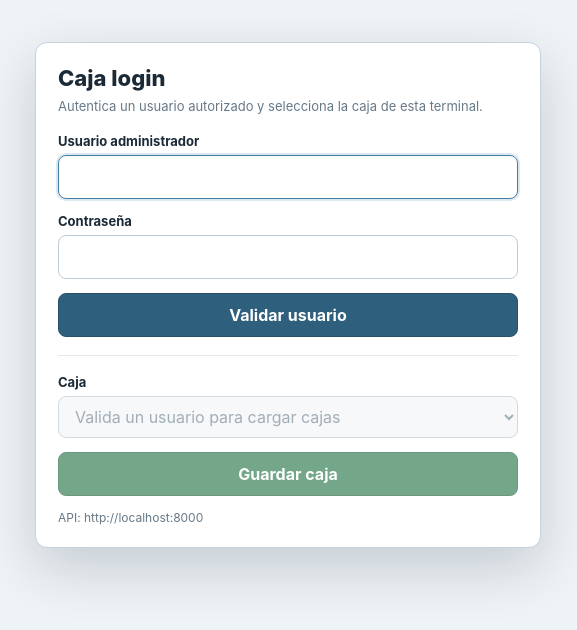
Scenario: rejects users without admin privileges
This screenshot has width=577, height=630.
Type "cashier" into the field labelled "Usuario administrador".
click(288, 177); type("cashier")  # box 58,155 -> 518,199
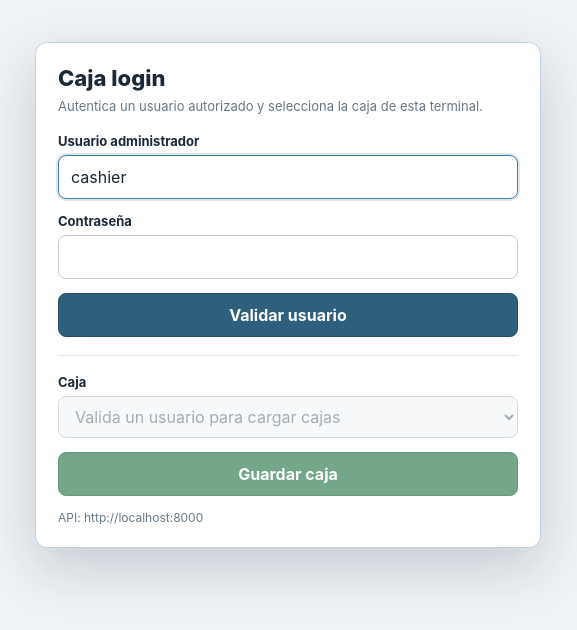
Type "secret" into the password field labelled "Contraseña".
click(288, 257); type("secret")  # box 58,235 -> 518,279
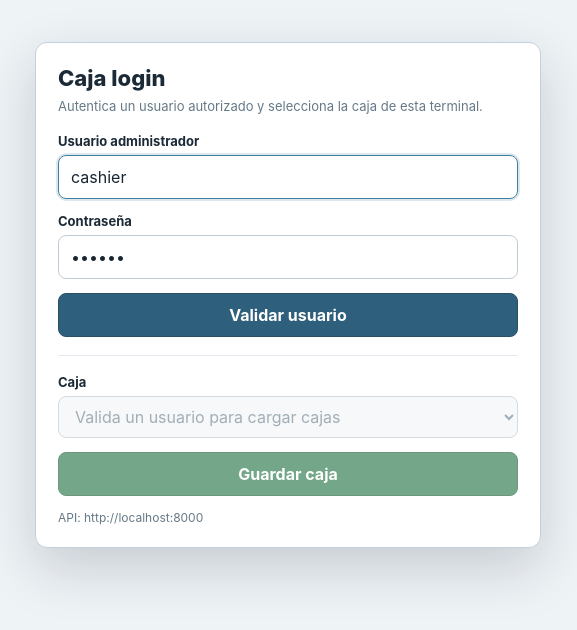
Click the button "Validar usuario".
click(288, 315)  # box 58,293 -> 518,337
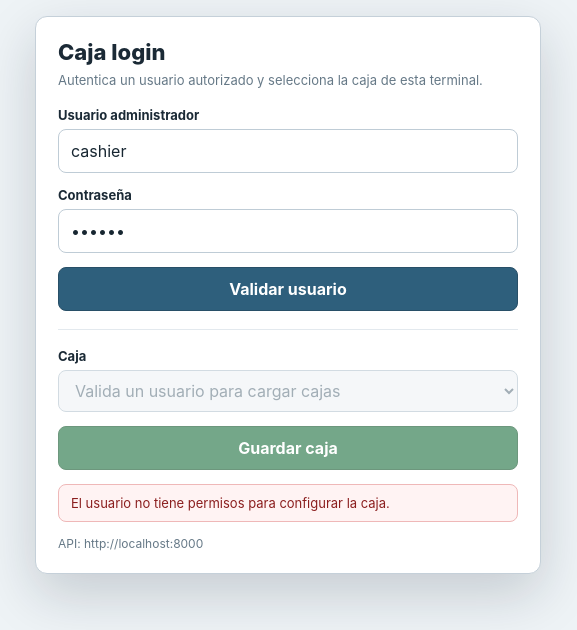
Result: the message reads "El usuario no tiene permisos para configurar la caja." at 71,495 -> 390,511
